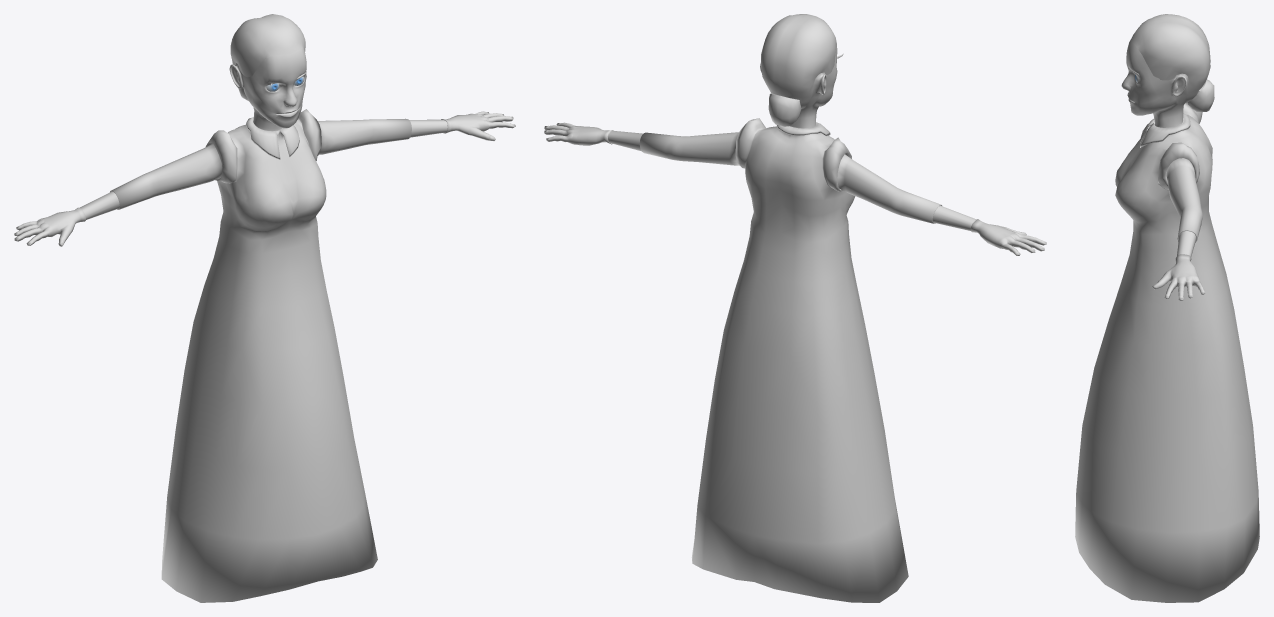
Rendered from Character_Maid_FBX.FBX.
The picture shows the model from 3 angles, left to right: view 1: azimuth 30°, elevation 25°; view 2: azimuth 150°, elevation 25°; view 3: azimuth 270°, elevation 25°; orthographic projection. The views are drawn at different scales.
Parts seen in each view (by area): view 1: Character_Body, Hair; view 2: Character_Body, Hair; view 3: Character_Body, Hair.
Boxes of the visible parts, x1,y1,x2,y2 form: Character_Body: [14, 47, 515, 602]; Hair: [230, 14, 305, 100]; Character_Body: [544, 42, 1046, 602]; Hair: [761, 14, 836, 126]; Character_Body: [1075, 39, 1259, 602]; Hair: [1131, 14, 1214, 111].
Size of the model in its own units: 1.42 by 1.49 by 0.4641.
